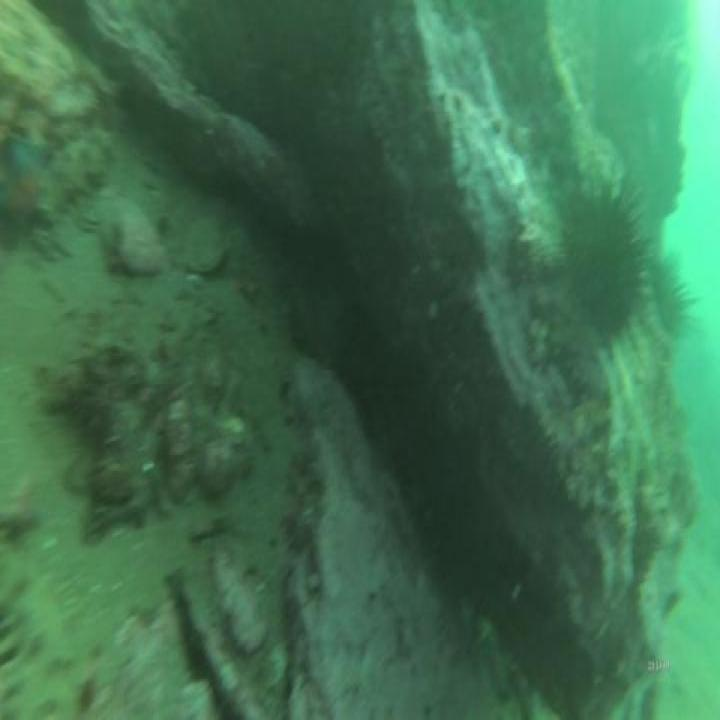echinus: (555, 149, 649, 352), (652, 244, 705, 354)
starfish: (2, 128, 57, 226)
